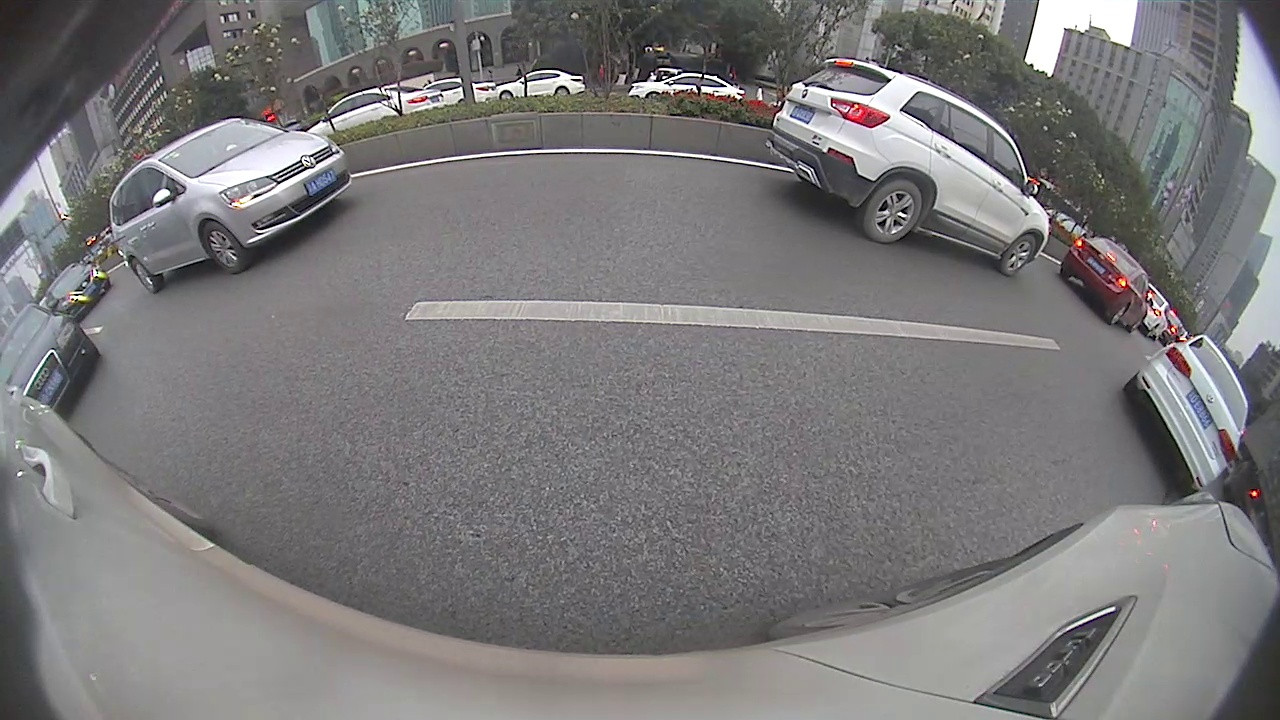car: (763, 58, 1053, 276), (108, 117, 354, 291), (1123, 333, 1252, 488), (1, 301, 98, 414), (1062, 233, 1156, 335)
front: (202, 221, 244, 274), (1000, 235, 1039, 277), (646, 92, 662, 105), (500, 91, 512, 102)
rear: (862, 183, 925, 243), (128, 256, 159, 291), (555, 87, 569, 100)
